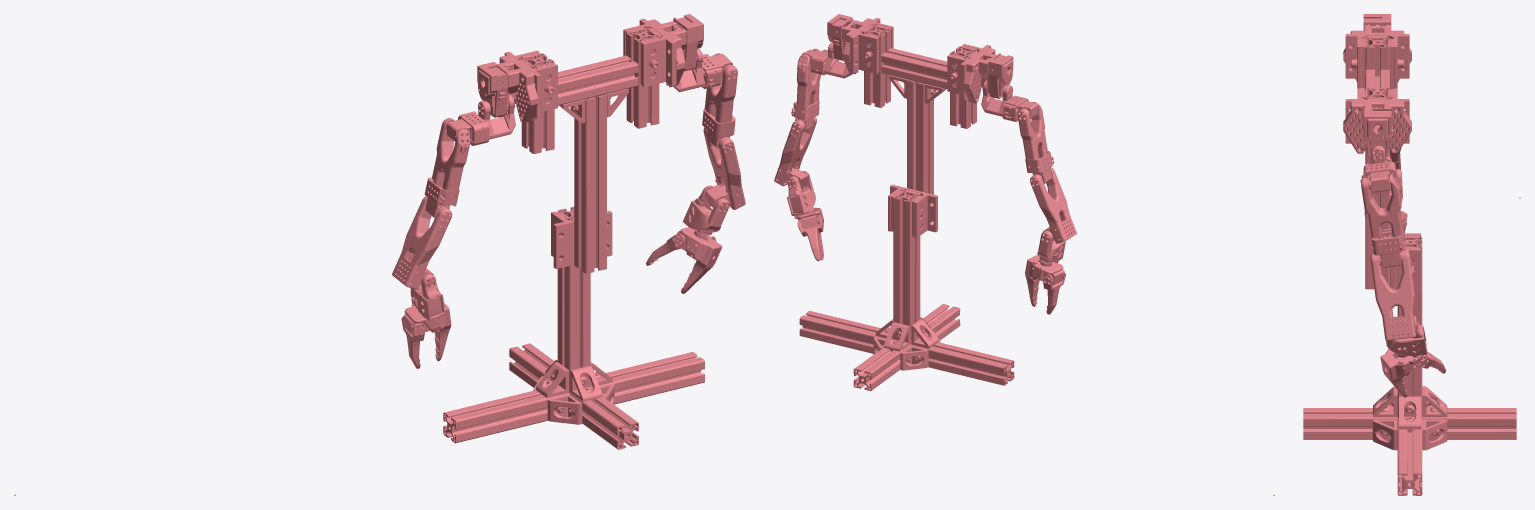
Rendered from So-101 arms.glb.
3 views of the same model, side by side, from view 1: azimuth 30°, elevation 25°; view 2: azimuth 150°, elevation 25°; view 3: azimuth 270°, elevation 25° (orthographic). The views are drawn at different scales.
Parts seen in each view (by area): view 1: Assem_02 - Copy - SO101_mated-8 Wrist_Roll_Pitch_SO100-4-1; view 2: Assem_02 - Copy - SO101_mated-8 Wrist_Roll_Pitch_SO100-4-1; view 3: Assem_02 - Copy - SO101_mated-8 Wrist_Roll_Pitch_SO100-4-1.
Part boxes in pixels (<box>): Assem_02 - Copy - SO101_mated-8 Wrist_Roll_Pitch_SO100-4-1: <box>392,14,745,449</box>; Assem_02 - Copy - SO101_mated-8 Wrist_Roll_Pitch_SO100-4-1: <box>774,14,1076,391</box>; Assem_02 - Copy - SO101_mated-8 Wrist_Roll_Pitch_SO100-4-1: <box>1303,14,1516,495</box>.
Bounding box in the file's own units: 1219 × 668 × 350.
